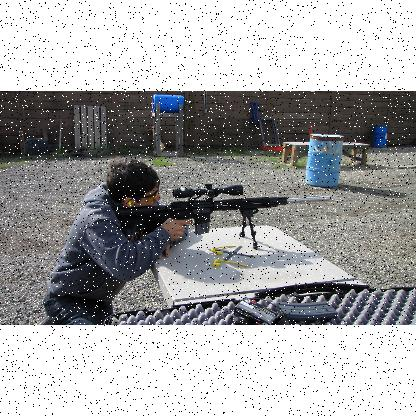gun: (112, 183, 330, 248)
